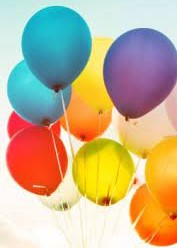Balloon: (103, 29, 177, 118), (21, 6, 91, 93), (6, 127, 68, 194), (73, 138, 131, 206)
